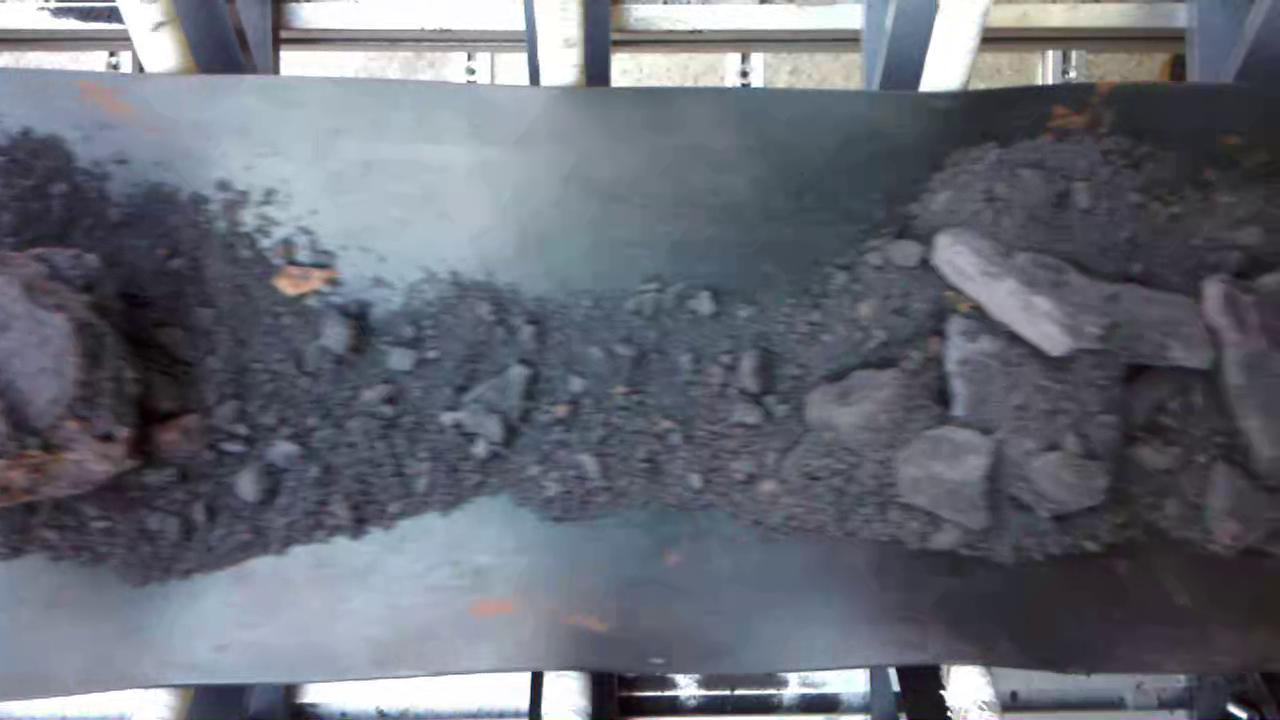conveyor: (5, 67, 1280, 666)
